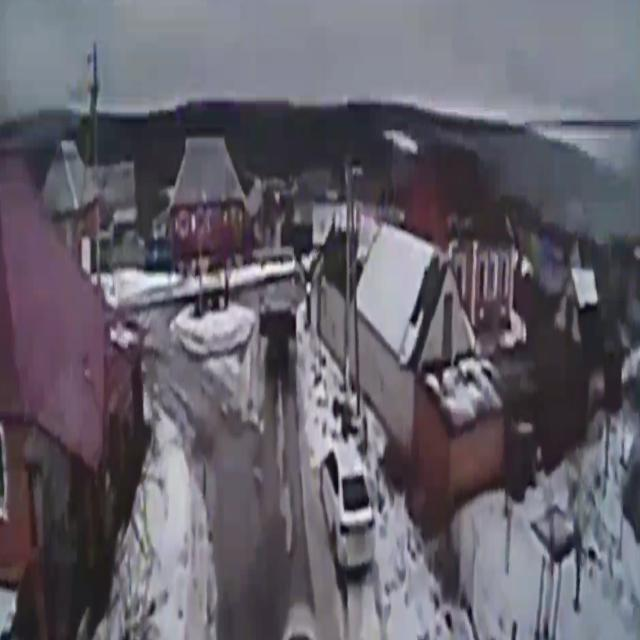vehicle: (255, 297, 298, 379)
